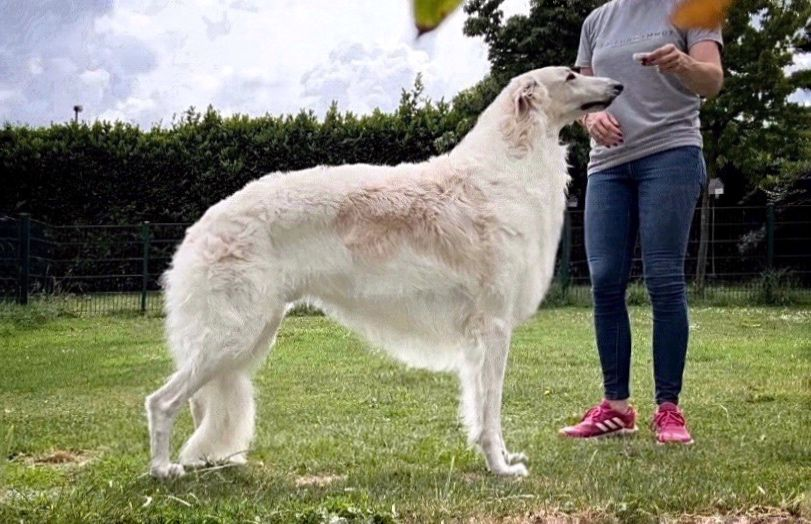borzoi: (142, 67, 631, 480)
